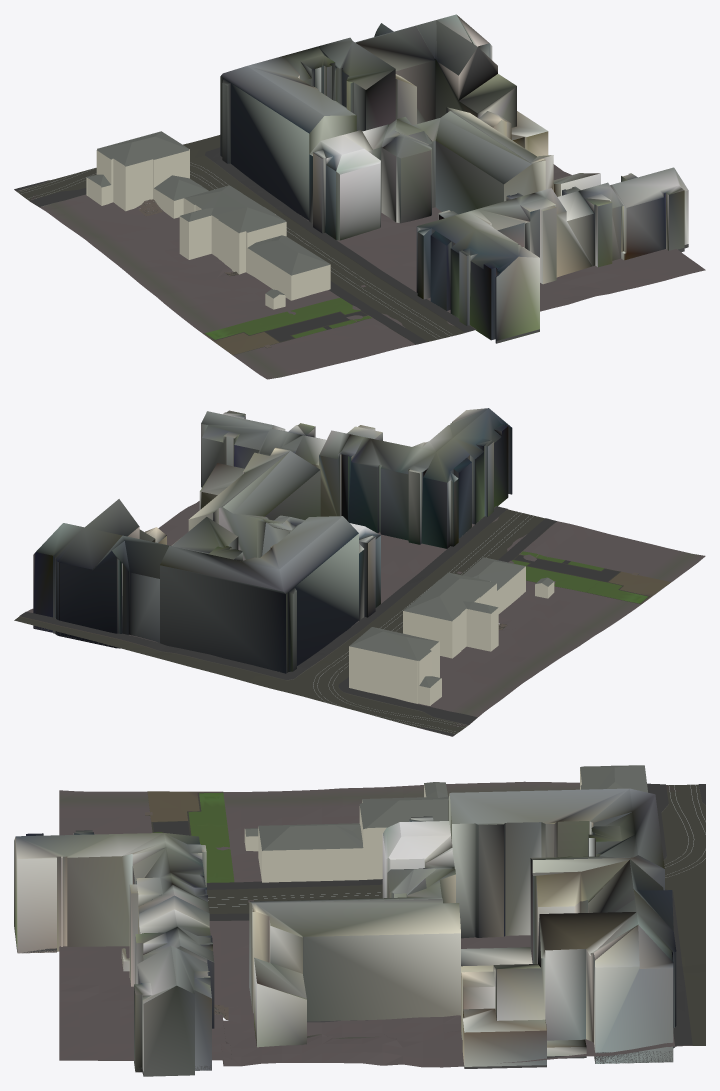
3 renders of one model, top to bottom at view 1: azimuth 30°, elevation 25°; view 2: azimuth 150°, elevation 25°; view 3: azimuth 270°, elevation 25°, orthographic. The views are drawn at different scales.
Visible parts, largest first — view 1: c_p00_m04; view 2: c_p00_m04; view 3: c_p00_m04.
Part boxes in pixels (x1,y1,x2,y2): c_p00_m04: (14, 14, 705, 379); c_p00_m04: (14, 408, 705, 736); c_p00_m04: (14, 765, 705, 1076).
Size of the model in its own units: 133 by 29.93 by 137.
